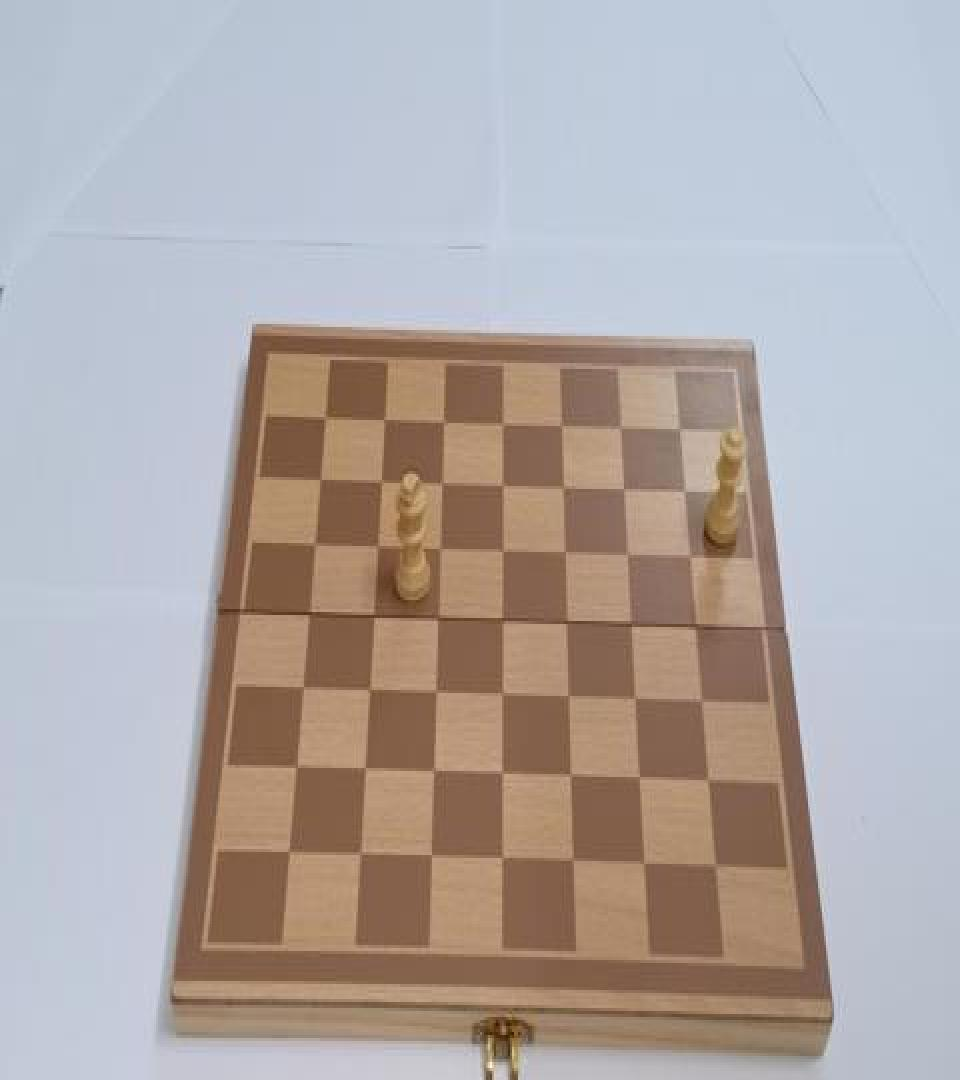xcorner: (433, 406, 451, 434), (611, 412, 629, 440), (314, 404, 332, 431), (309, 465, 327, 492), (304, 532, 322, 559), (298, 603, 316, 630), (292, 678, 310, 705), (279, 843, 297, 870), (374, 405, 392, 432), (370, 468, 388, 495), (367, 534, 385, 561), (363, 604, 381, 631), (355, 759, 373, 786), (350, 844, 368, 871), (431, 470, 449, 497), (428, 606, 446, 633), (426, 683, 444, 710), (424, 762, 442, 789), (493, 408, 511, 435), (493, 471, 511, 498), (493, 538, 511, 565), (493, 609, 511, 636), (493, 684, 511, 711), (493, 849, 511, 876), (552, 411, 570, 438), (554, 474, 572, 501), (556, 540, 574, 567), (558, 610, 576, 637), (562, 766, 580, 793), (564, 852, 582, 879), (627, 689, 645, 716), (631, 768, 649, 795), (671, 414, 689, 441), (676, 477, 694, 504), (682, 545, 700, 572), (687, 615, 705, 642), (694, 690, 712, 717), (700, 771, 718, 798), (707, 857, 725, 884), (286, 758, 304, 784), (359, 680, 377, 706), (430, 536, 448, 562), (422, 848, 440, 874), (493, 764, 511, 790), (560, 686, 578, 712), (615, 476, 633, 502), (619, 542, 637, 568), (623, 614, 641, 640), (636, 854, 654, 880)
